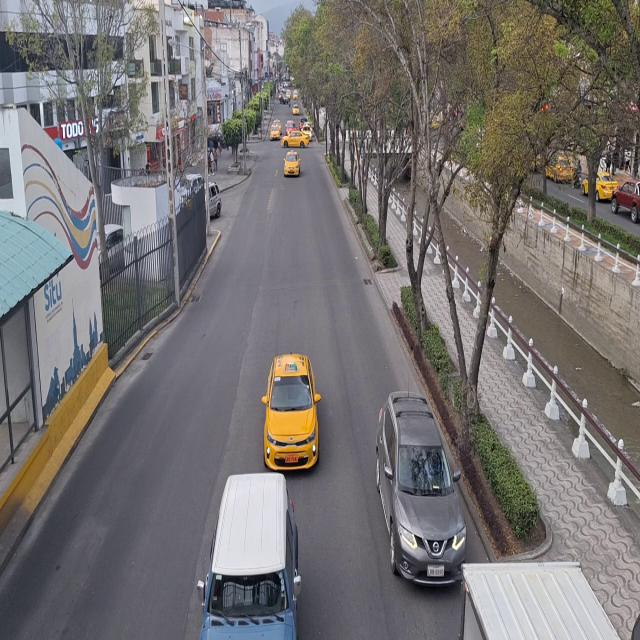CMT: (614, 182, 640, 220)
SED: (264, 356, 319, 472)
SUV: (206, 470, 292, 640), (382, 389, 455, 587)
